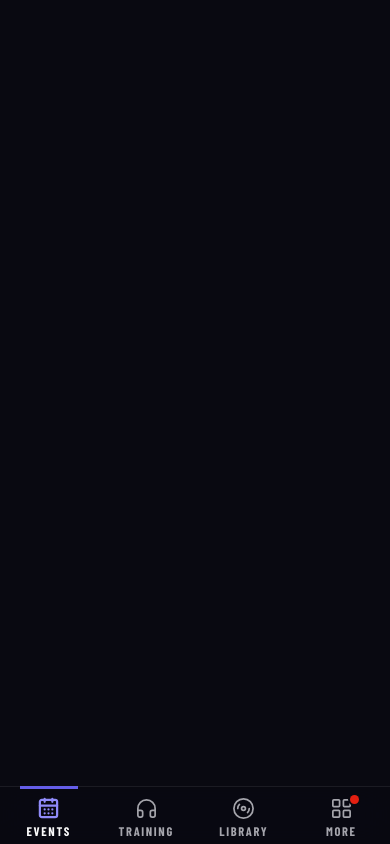
Test case: Fullscreen switch in the account panel › is still there to turn fullscreen OFF
The width and height of the screenshot is (390, 844).
Click the button with aria-label "เมนูเพิ่มเติม" at [341, 815], box [292,786,389,843]
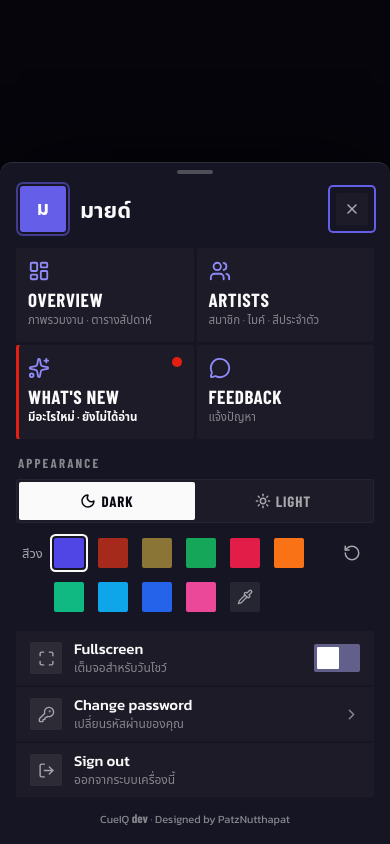
Click the switch labelled "Fullscreen เต็มจอสำหรับวันโชว์" at [46, 658], box [16,631,374,685]
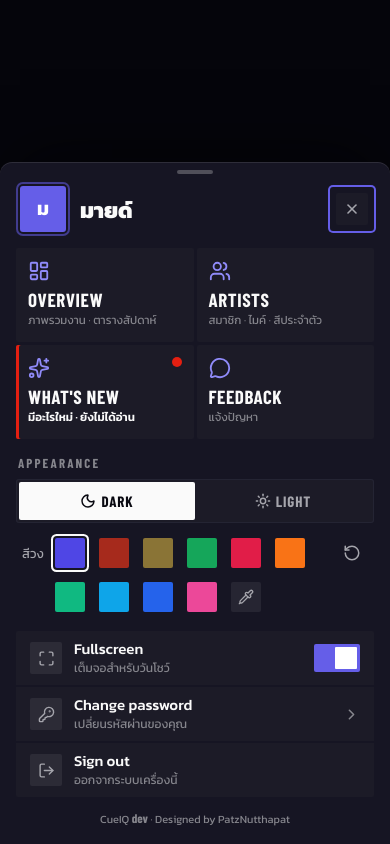
// close the panel, then reopen it to switch fullscreen off
Click the button named "ปิดเมนู" at [352, 209], box [330,187,374,231]
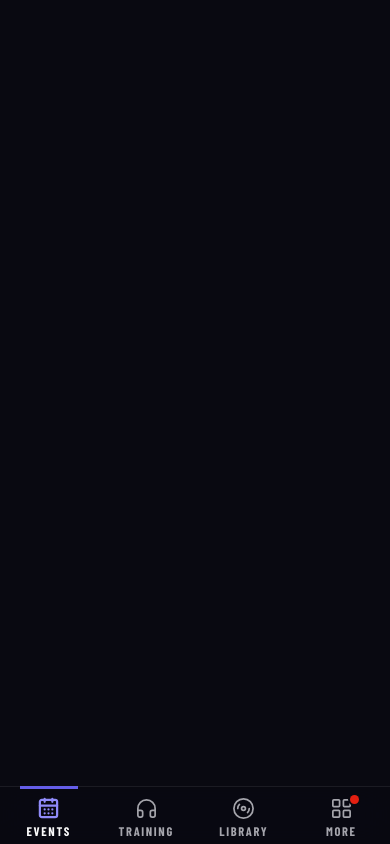
Click the button with aria-label "เมนูเพิ่มเติม" at [341, 815], box [292,786,389,843]
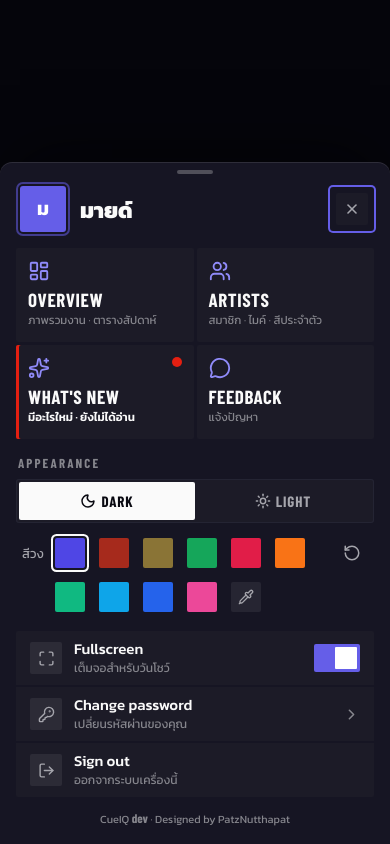
Expected: the switch labelled "Fullscreen เต็มจอสำหรับวันโชว์" is shown, [16,631,374,685]
